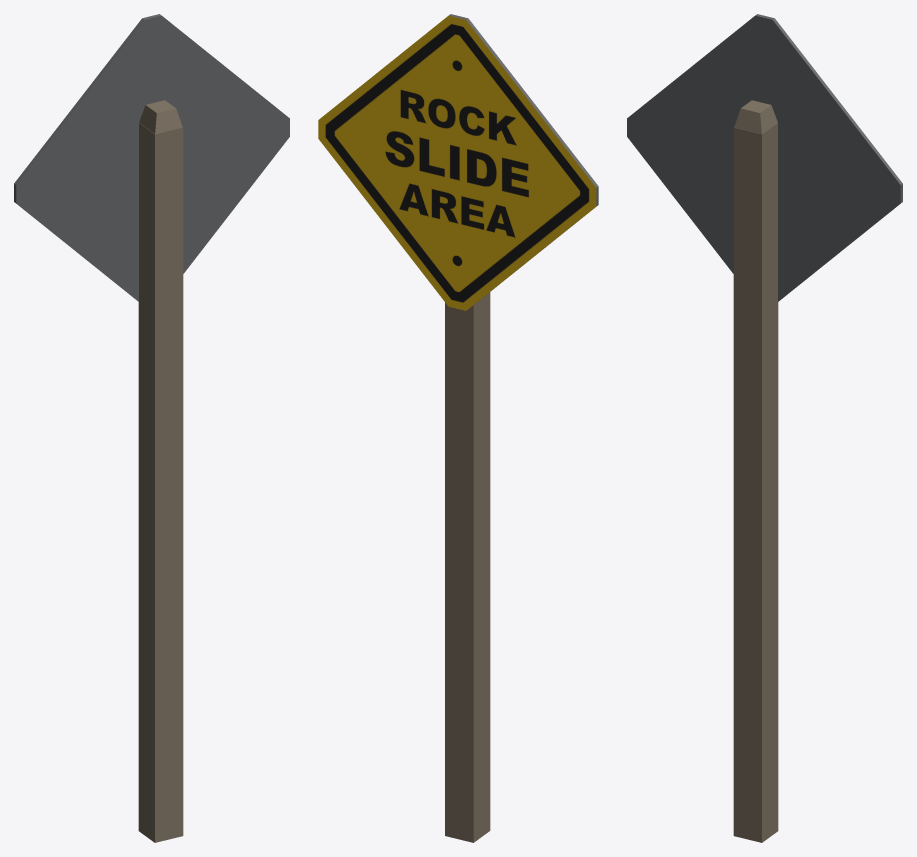
Rendered from sign-rockslide.glb.
The picture shows the model from 3 angles, left to right: view 1: azimuth 30°, elevation 25°; view 2: azimuth 150°, elevation 25°; view 3: azimuth 330°, elevation 25°; orthographic projection.
Parts seen in each view (by area): view 1: sign-rockslide; view 2: sign-rockslide; view 3: sign-rockslide.
Part boxes in pixels (bbox=[...]): sign-rockslide: bbox=[14, 14, 289, 842]; sign-rockslide: bbox=[318, 14, 598, 842]; sign-rockslide: bbox=[627, 14, 902, 842].
Size of the model in its own units: 0.8592 by 2.43 by 0.099.
Materials: 3 (1 with a texture image).
